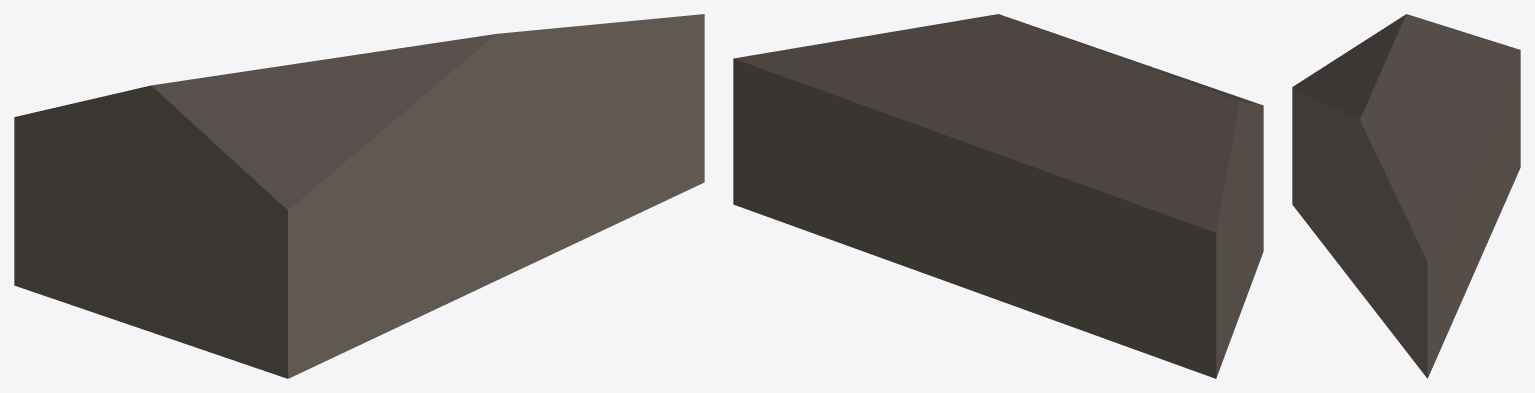
3 renders of one model, left to right at view 1: azimuth 30°, elevation 25°; view 2: azimuth 150°, elevation 25°; view 3: azimuth 270°, elevation 25°, orthographic. The views are drawn at different scales.
Visible parts, largest first — view 1: HP-w859082485; view 2: HP-w859082485; view 3: HP-w859082485.
Part boxes in pixels (x1,y1,x2,y2): HP-w859082485: [14, 14, 704, 378]; HP-w859082485: [733, 14, 1263, 378]; HP-w859082485: [1292, 14, 1520, 378].
Size of the model in its own units: 23.26 by 8.8 by 10.61.
